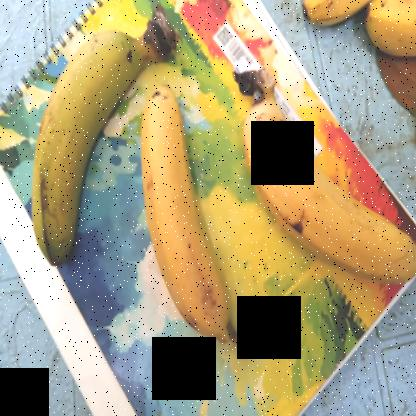freshripe: (242, 96, 409, 295), (130, 71, 238, 351)
ripe: (19, 1, 143, 273)
